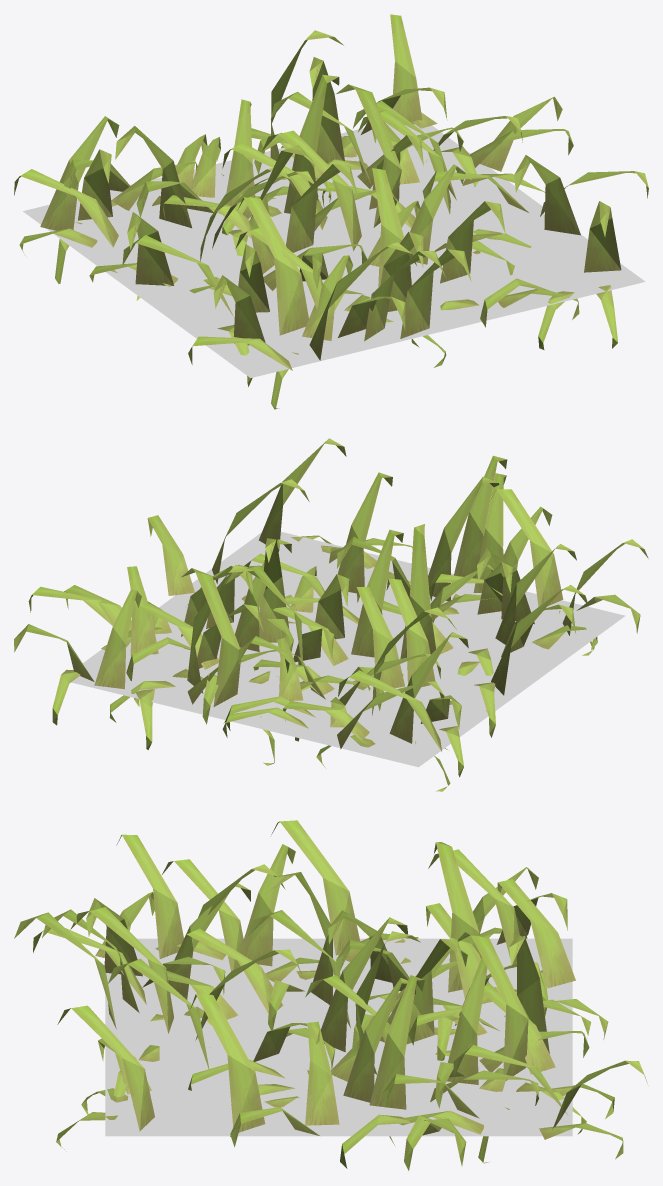
The model's file is grassblend.fbx.
The picture shows the model from 3 angles, top to bottom: view 1: azimuth 30°, elevation 25°; view 2: azimuth 150°, elevation 25°; view 3: azimuth 270°, elevation 25°; orthographic projection. The views are drawn at different scales.
Visible parts, largest first — view 1: Plane.001, Plane.001|Plane|Dupli|68, Plane.001|Plane|Dupli|23, Plane.001|Plane|Dupli|27, Plane.001|Plane|Dupli|99, Plane.001|Plane|Dupli|82, Plane.001|Plane|Dupli|75, Plane.001|Plane|Dupli|, Plane.001|Plane|Dupli|31, Plane.001|Plane|Dupli|58, Plane.001|Plane|Dupli|16, Plane.001|Plane|Dupli|4 (+43 smaller); view 2: Plane.001, Plane.001|Plane|Dupli|67, Plane.001|Plane|Dupli|70, Plane.001|Plane|Dupli|75, Plane.001|Plane|Dupli|13, Plane.001|Plane|Dupli|40, Plane.001|Plane|Dupli|21, Plane.001|Plane|Dupli|82, Plane.001|Plane|Dupli|91, Plane.001|Plane|Dupli|87, Plane.001|Plane|Dupli|42, Plane.001|Plane|Dupli|77 (+45 smaller); view 3: Plane.001, Plane.001|Plane|Dupli|99, Plane.001|Plane|Dupli|96, Plane.001|Plane|Dupli|4, Plane.001|Plane|Dupli|58, Plane.001|Plane|Dupli|55, Plane.001|Plane|Dupli|51, Plane.001|Plane|Dupli|31, Plane.001|Plane|Dupli|90, Plane.001|Plane|Dupli|78, Plane.001|Plane|Dupli|, Plane.001|Plane|Dupli|26 (+46 smaller).
Part boxes in pixels (x1,y1,x2,y2): Plane.001: (23,123,645,377); Plane.001|Plane|Dupli|68: (237,197,308,335); Plane.001|Plane|Dupli|23: (40,116,119,230); Plane.001|Plane|Dupli|27: (390,14,422,124); Plane.001|Plane|Dupli|99: (514,155,580,235); Plane.001|Plane|Dupli|82: (286,164,357,252); Plane.001|Plane|Dupli|75: (400,249,471,338); Plane.001|Plane|Dupli|: (584,201,621,272); Plane.001|Plane|Dupli|31: (115,126,191,228); Plane.001|Plane|Dupli|58: (127,212,173,285); Plane.001|Plane|Dupli|16: (284,74,339,213); Plane.001|Plane|Dupli|4: (309,57,344,163); Plane.001: (71,531,625,767); Plane.001|Plane|Dupli|67: (181,568,240,706); Plane.001|Plane|Dupli|70: (491,489,563,606); Plane.001|Plane|Dupli|75: (454,455,507,578); Plane.001|Plane|Dupli|13: (94,589,141,689); Plane.001|Plane|Dupli|40: (400,524,435,658); Plane.001|Plane|Dupli|21: (338,472,392,593); Plane.001|Plane|Dupli|82: (351,529,403,657); Plane.001|Plane|Dupli|91: (259,538,289,642); Plane.001|Plane|Dupli|87: (428,476,499,601); Plane.001|Plane|Dupli|42: (386,578,435,687); Plane.001|Plane|Dupli|77: (356,587,404,687); Plane.001: (105,938,572,1136); Plane.001|Plane|Dupli|99: (190,994,265,1132); Plane.001|Plane|Dupli|96: (369,975,424,1109); Plane.001|Plane|Dupli|4: (457,932,528,1080); Plane.001|Plane|Dupli|58: (270,820,360,955); Plane.001|Plane|Dupli|55: (497,879,575,988); Plane.001|Plane|Dupli|51: (116,834,183,958); Plane.001|Plane|Dupli|31: (434,842,481,992); Plane.001|Plane|Dupli|90: (305,1021,339,1125); Plane.001|Plane|Dupli|78: (343,978,416,1102); Plane.001|Plane|Dupli|: (57,1005,154,1131); Plane.001|Plane|Dupli|26: (447,957,487,1084).
Bounding box in the file's own units: 133 × 44.72 × 136.
Materials: 2 (1 with a texture image).
